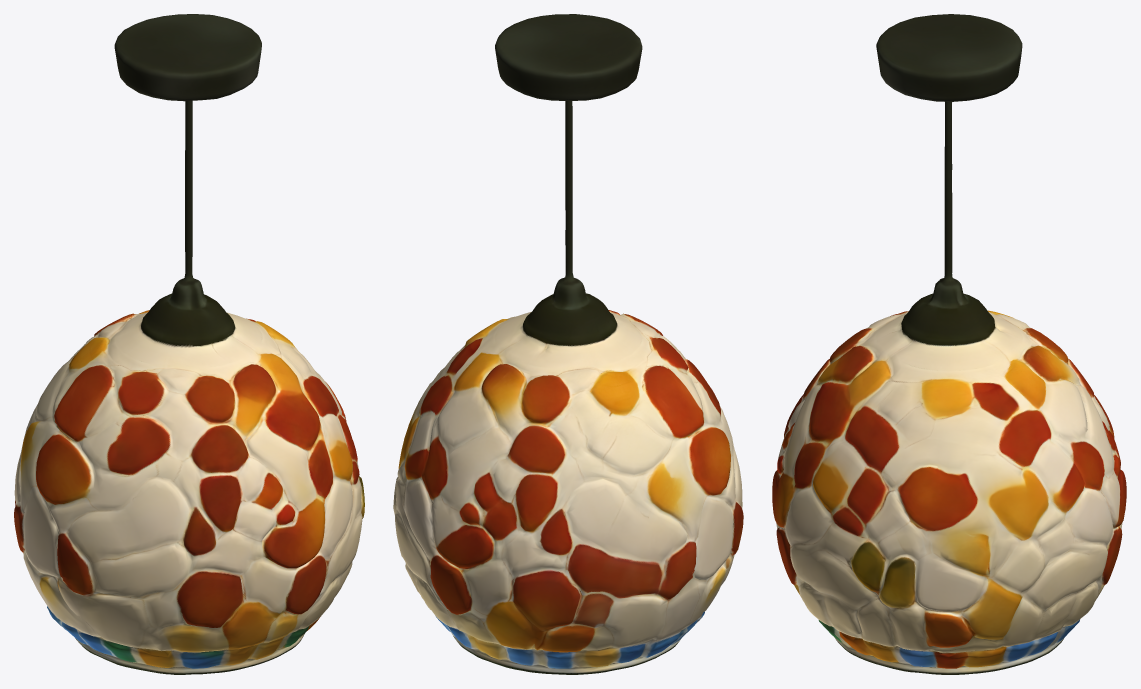
File: junction-pendant.glb
The picture shows the model from 3 angles, left to right: view 1: azimuth 30°, elevation 25°; view 2: azimuth 150°, elevation 25°; view 3: azimuth 270°, elevation 25°; orthographic projection.
Visible parts, largest first — view 1: model; view 2: model; view 3: model.
Boxes of the visible parts, x1,y1,x2,y2 form: model: (14, 14, 364, 674); model: (393, 14, 743, 674); model: (772, 14, 1126, 674).
Size of the model in its own units: 1.02 by 1.9 by 1.05.
1 material, 1 textured.
